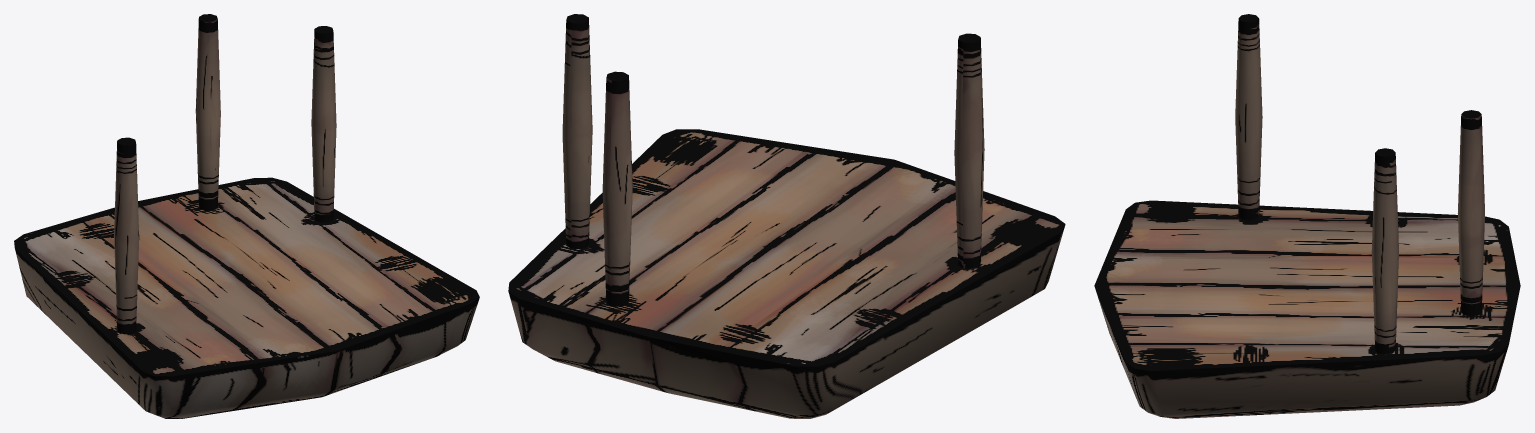
File: armchair_gib3.fbx
3 views of the same model, side by side, from view 1: azimuth 30°, elevation 25°; view 2: azimuth 150°, elevation 25°; view 3: azimuth 270°, elevation 25° (orthographic). The views are drawn at different scales.
Parts seen in each view (by area): view 1: armchair_gib3; view 2: armchair_gib3; view 3: armchair_gib3.
Part boxes in pixels (left/top/right/bottom): armchair_gib3: left=14, top=14, right=479, bottom=418; armchair_gib3: left=508, top=14, right=1065, bottom=418; armchair_gib3: left=1094, top=14, right=1520, bottom=418.
Bounding box in the file's own units: 223 × 157 × 235.
